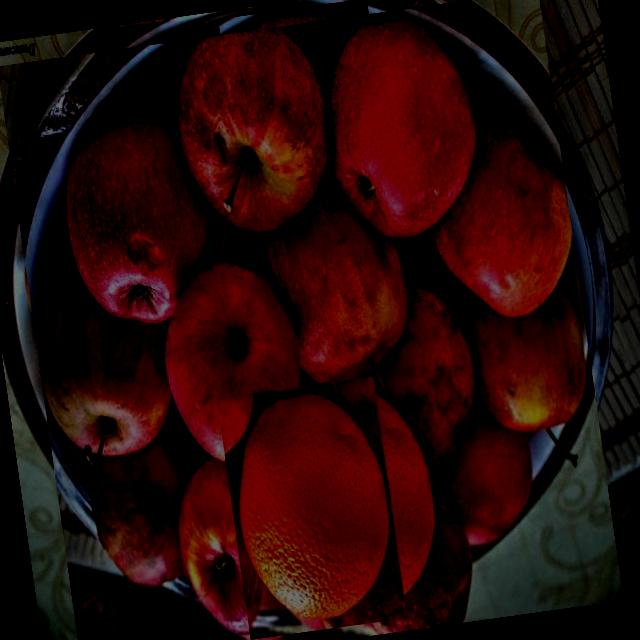Apple: (314, 8, 488, 246), (46, 110, 218, 338), (165, 19, 338, 242), (419, 111, 584, 331), (148, 248, 310, 470), (256, 198, 417, 390), (163, 448, 312, 640), (30, 262, 170, 464), (364, 274, 485, 473), (462, 282, 594, 438), (83, 441, 211, 595), (426, 405, 544, 555), (360, 494, 480, 635)
Orange: (217, 376, 407, 640)
